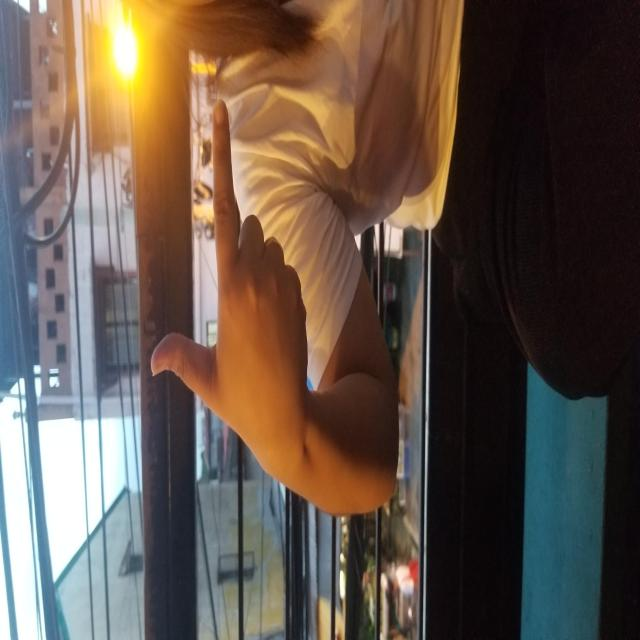G: (167, 150, 541, 308)
